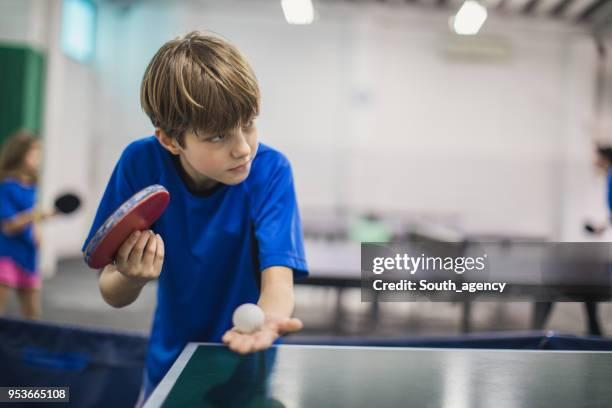ball_pingpong: (232, 301, 263, 333)
